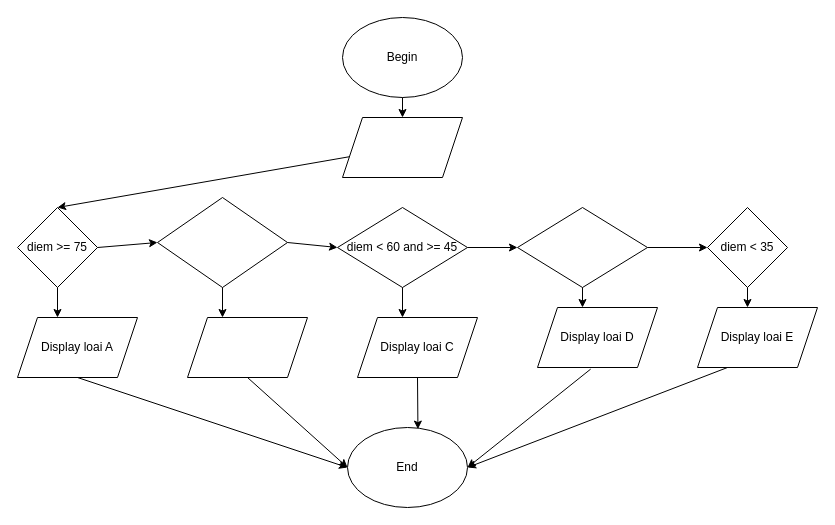
This 835x525 diagram has some shape labels left out. Each missing label, with the box of its shape:
diem < 45 and >= 35: (516, 206, 648, 288)
diem < 75 and >= 60: (156, 196, 288, 288)
Display loai B: (186, 316, 308, 378)
Nhap diem: (342, 116, 462, 178)
